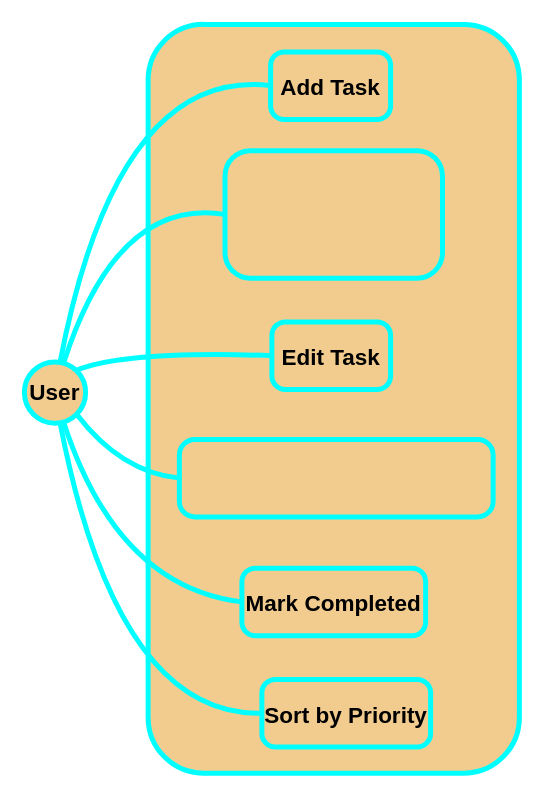
Some shapes in this 543 by 796 pixel diagram are drawn without their labels. Each missing label, with the centre of its shape:
Delete Task / Clear All Tasks: the point at 335,477
View Tasks (auto-sorted by priority): the point at 333,214
